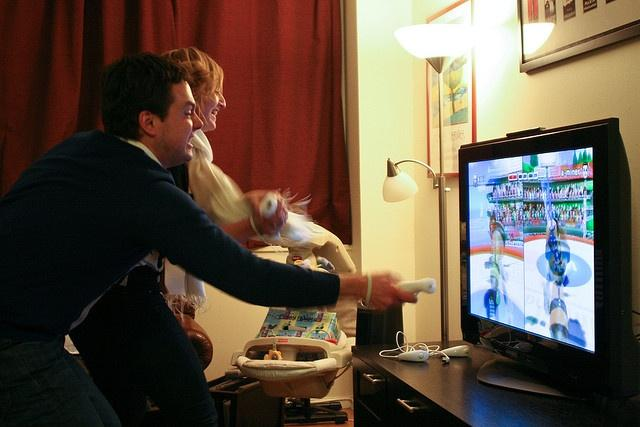AIO PC-Monitor-TV: (458, 116, 631, 398)
